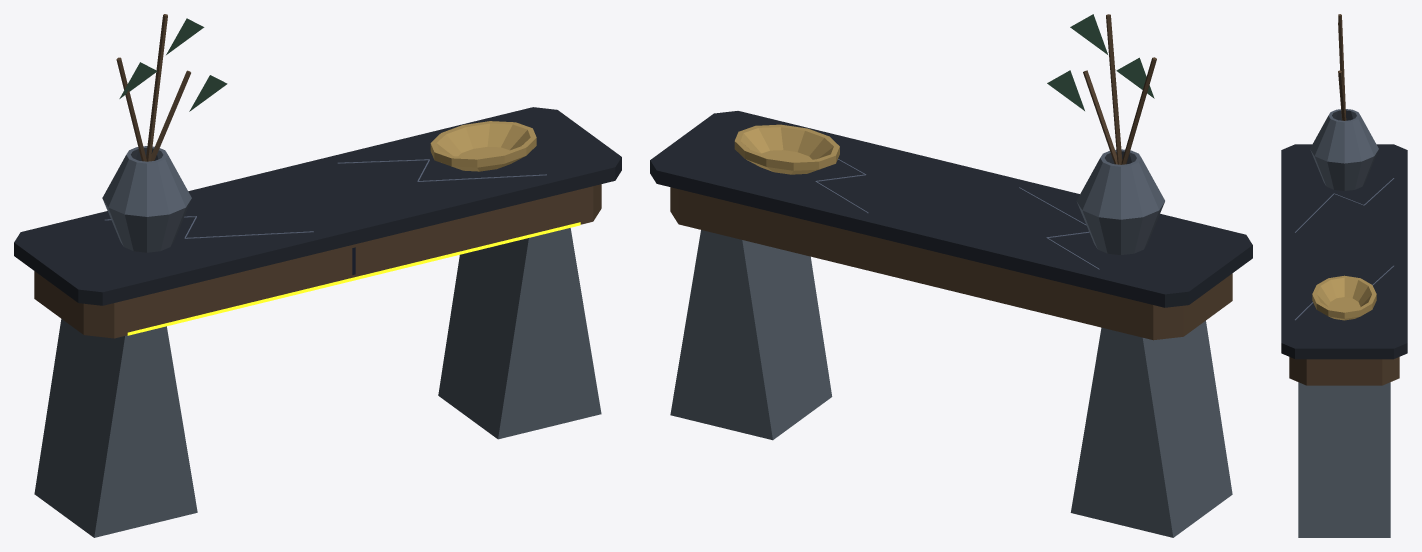
Rendered from res_foyer_console.glb.
3 views of the same model, side by side, from view 1: azimuth 30°, elevation 25°; view 2: azimuth 150°, elevation 25°; view 3: azimuth 270°, elevation 25° (orthographic). The views are drawn at different scales.
Parts seen in each view (by area): view 1: sculptural_console_leg, stone_console_top, decorative_branch, ceramic_vase, key_bowl, concealed_console_led, branch_leaf, fine_stone_vein; view 2: sculptural_console_leg, stone_console_top, decorative_branch, ceramic_vase, key_bowl, branch_leaf; view 3: stone_console_top, sculptural_console_leg, ceramic_vase, decorative_branch, key_bowl, fine_stone_vein.
Part boxes in pixels (bbox=[...]): sculptural_console_leg: bbox=[34, 228, 601, 537]; stone_console_top: bbox=[14, 107, 621, 305]; decorative_branch: bbox=[34, 14, 601, 338]; ceramic_vase: bbox=[102, 146, 191, 252]; key_bowl: bbox=[430, 121, 536, 171]; concealed_console_led: bbox=[127, 222, 580, 335]; branch_leaf: bbox=[119, 18, 227, 111]; fine_stone_vein: bbox=[104, 159, 546, 238]; sculptural_console_leg: bbox=[670, 230, 1232, 537]; stone_console_top: bbox=[650, 111, 1252, 307]; decorative_branch: bbox=[670, 14, 1232, 340]; ceramic_vase: bbox=[1076, 149, 1164, 254]; key_bowl: bbox=[734, 124, 839, 174]; branch_leaf: bbox=[1047, 14, 1154, 110]; stone_console_top: bbox=[1281, 144, 1407, 359]; sculptural_console_leg: bbox=[1298, 382, 1390, 537]; ceramic_vase: bbox=[1310, 109, 1378, 190]; decorative_branch: bbox=[1289, 14, 1399, 385]; key_bowl: bbox=[1312, 275, 1376, 320]; fine_stone_vein: bbox=[1294, 178, 1394, 320].
Bounding box in the file's own units: 2.1 × 1.77 × 0.55.
